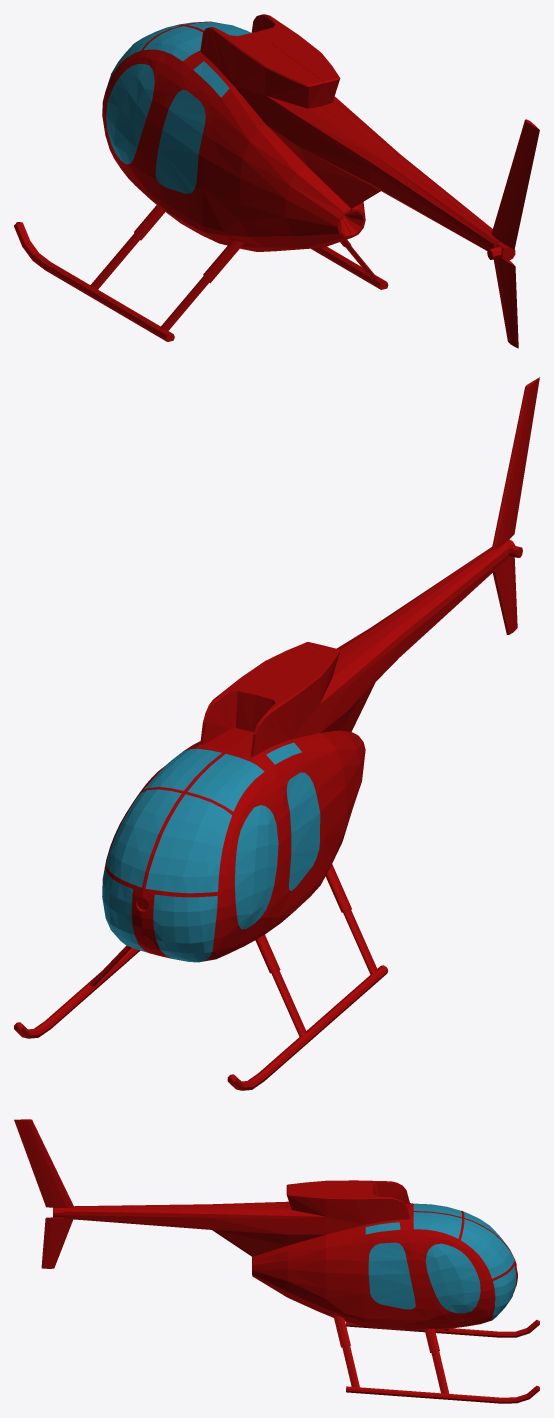
File: helicopter.obj
3 views of the same model, one above another, from view 1: azimuth 30°, elevation 25°; view 2: azimuth 150°, elevation 25°; view 3: azimuth 270°, elevation 25° (orthographic). The views are drawn at different scales.
Visible parts, largest first — view 1: objbody_None, objglass_None; view 2: objbody_None, objglass_None; view 3: objbody_None, objglass_None.
Boxes of the visible parts, left/top/right/bottom form: objbody_None: left=14, top=14, right=539, bottom=348; objglass_None: left=102, top=22, right=250, bottom=193; objbody_None: left=14, top=377, right=539, bottom=1090; objglass_None: left=102, top=741, right=320, bottom=962; objbody_None: left=14, top=1119, right=539, bottom=1403; objglass_None: left=365, top=1203, right=516, bottom=1320.
Size of the model in its own units: 1.72 by 2.93 by 5.59.
